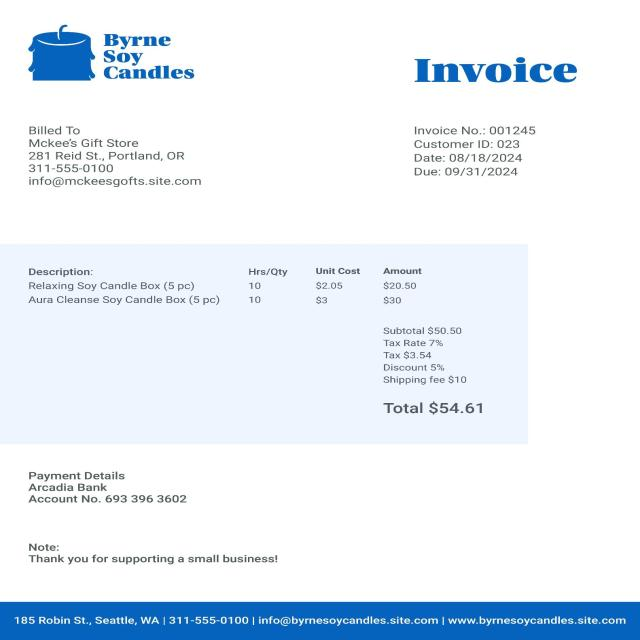paragraph: (2, 606, 640, 636), (20, 114, 228, 198), (380, 322, 498, 416), (406, 116, 571, 183), (19, 533, 293, 571), (14, 464, 198, 513), (409, 50, 585, 90), (96, 28, 205, 90)
table: (19, 262, 438, 314)
